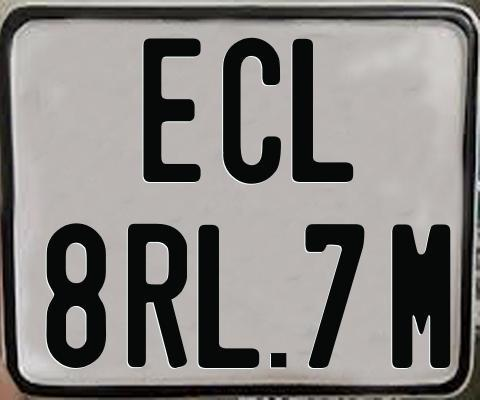7: (303, 224, 364, 371)
8: (46, 222, 111, 369)
C: (220, 37, 282, 186)
E: (141, 37, 200, 187)
L: (197, 224, 264, 372), (289, 39, 353, 183)
M: (392, 221, 452, 370)
R: (126, 224, 185, 369)
